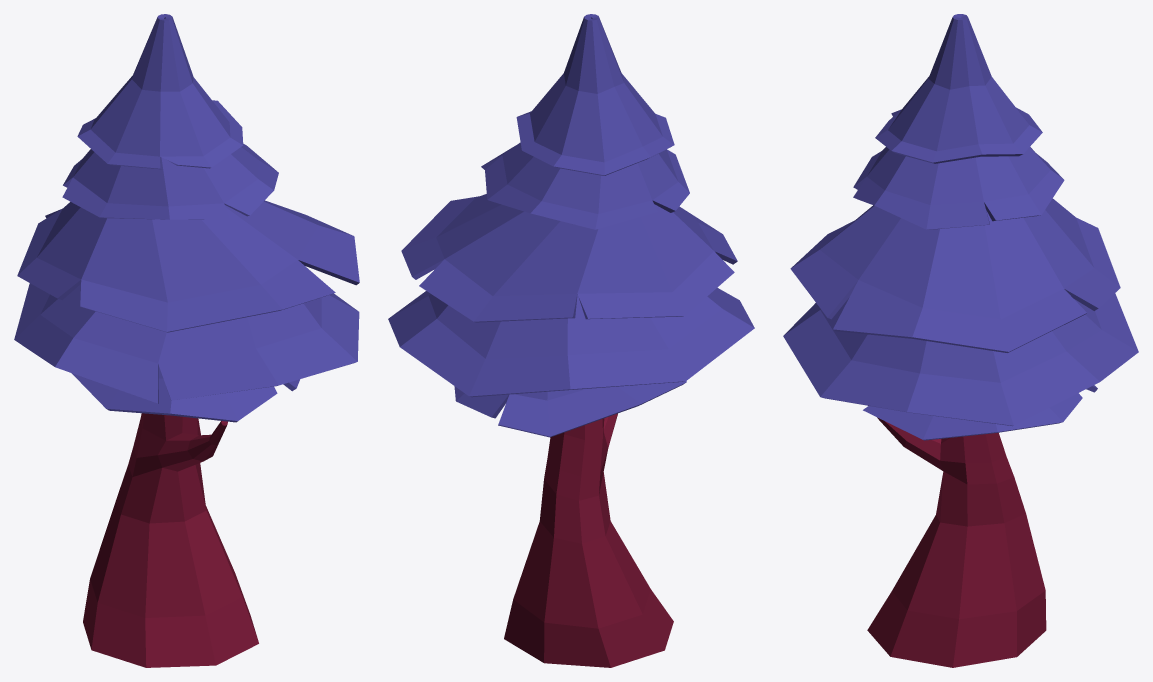
Rendered from Tree3.fbx.
The picture shows the model from 3 angles, left to right: view 1: azimuth 30°, elevation 25°; view 2: azimuth 150°, elevation 25°; view 3: azimuth 270°, elevation 25°; orthographic projection.
Parts seen in each view (by area): view 1: pino.001, arbol3; view 2: pino.001, arbol3; view 3: pino.001, arbol3.
Part boxes in pixels (bbox=[...]): pino.001: bbox=[14, 14, 359, 422]; arbol3: bbox=[83, 413, 258, 667]; pino.001: bbox=[388, 14, 754, 437]; arbol3: bbox=[504, 413, 673, 667]; pino.001: bbox=[783, 14, 1138, 440]; arbol3: bbox=[867, 405, 1046, 667].
Size of the model in its own units: 872 by 1637 by 863.
